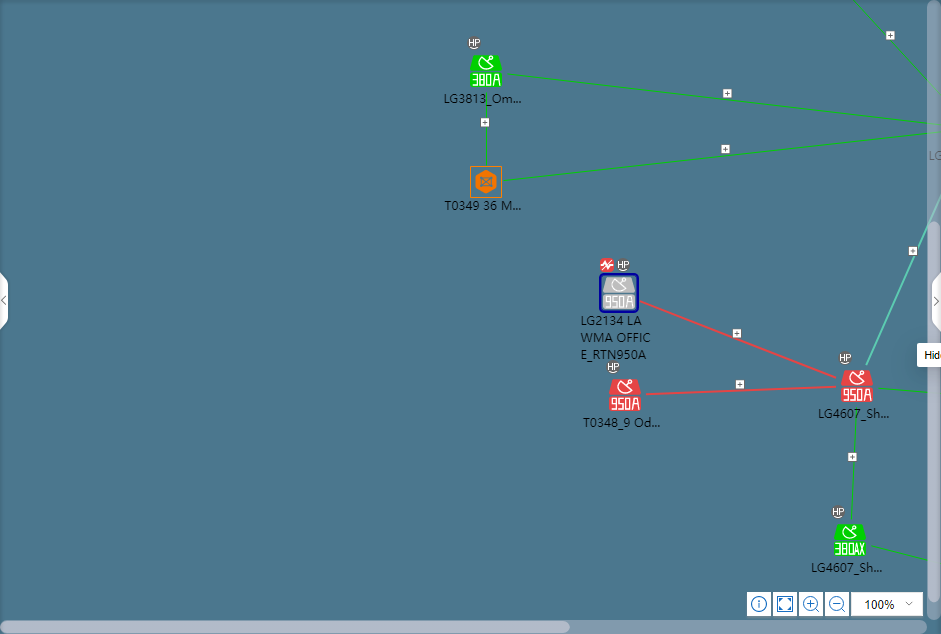Link_Blue: (864, 193, 941, 366)
Link_Green: (507, 72, 941, 127), (502, 131, 940, 183), (852, 0, 941, 98), (849, 408, 858, 520), (871, 545, 926, 562), (877, 387, 926, 395), (485, 92, 489, 165)
Link_Red: (640, 299, 837, 380), (645, 384, 838, 397)
RTN_Gray: (600, 276, 637, 312)
RTN_Green: (834, 525, 865, 557), (470, 55, 501, 86)
RTN_Red: (841, 371, 872, 403), (609, 380, 640, 411)
